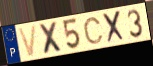3: (126, 8, 144, 39)
5: (61, 16, 82, 51)
C: (83, 16, 105, 45)
V: (17, 24, 38, 59)
X: (37, 20, 65, 56), (102, 9, 127, 45)
